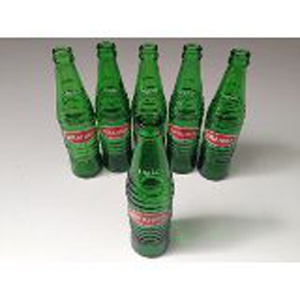emptybottle: (126, 115, 175, 258), (51, 46, 102, 179), (199, 48, 250, 181), (166, 42, 203, 177), (96, 43, 134, 173), (130, 44, 167, 173)
